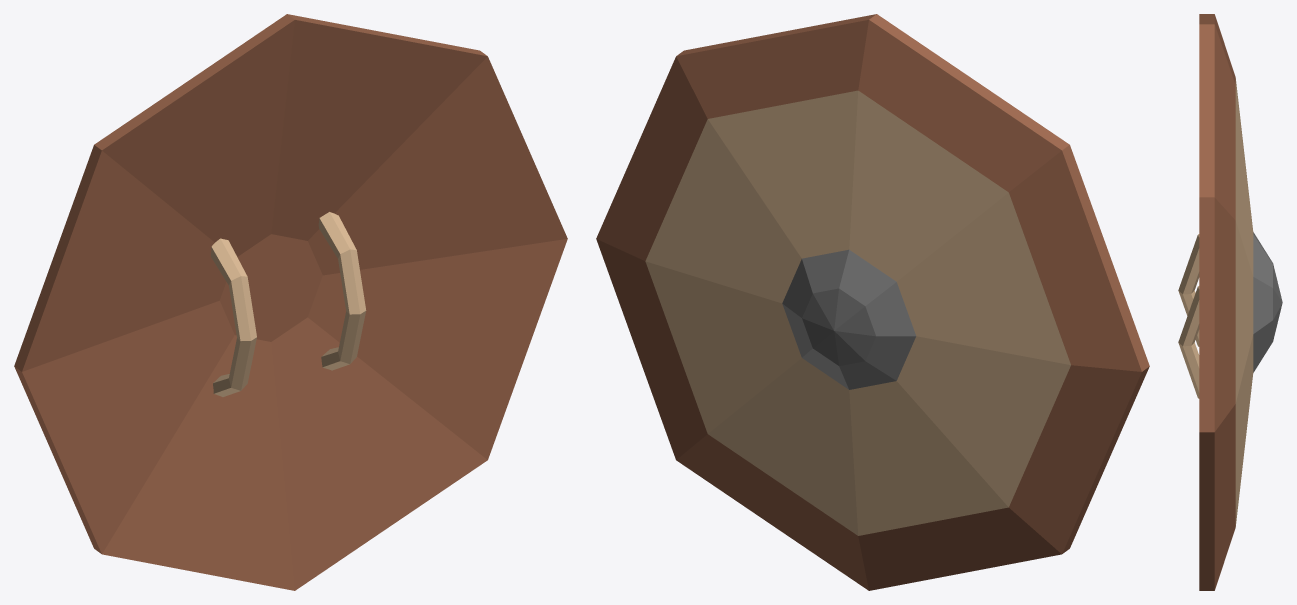
File: shield_leather.fbx
The picture shows the model from 3 angles, left to right: view 1: azimuth 30°, elevation 25°; view 2: azimuth 150°, elevation 25°; view 3: azimuth 270°, elevation 25°; orthographic projection. The views are drawn at different scales.
Parts seen in each view (by area): view 1: Torus; view 2: Torus; view 3: Torus.
Boxes of the visible parts, box(x1,y1,x2,y2) form: Torus: box(14, 14, 567, 590); Torus: box(596, 14, 1149, 590); Torus: box(1178, 14, 1282, 590).
Size of the model in its own units: 0.8 by 0.8 by 0.1361.
